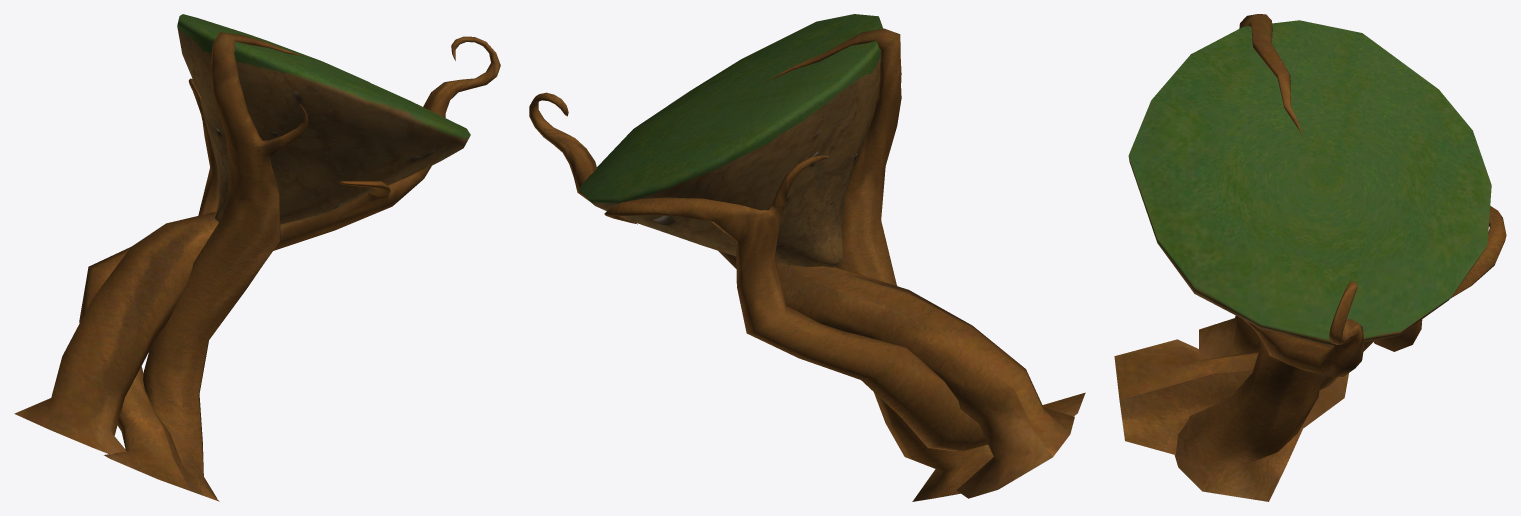
Rendered from RootPlatformShape8.dae.
3 renders of one model, left to right at view 1: azimuth 30°, elevation 25°; view 2: azimuth 150°, elevation 25°; view 3: azimuth 270°, elevation 25°, orthographic. The views are drawn at different scales.
Parts seen in each view (by area): view 1: RootPlatform8; view 2: RootPlatform8; view 3: RootPlatform8.
Boxes of the visible parts, x1,y1,x2,y2 form: RootPlatform8: [14, 14, 500, 501]; RootPlatform8: [529, 14, 1085, 501]; RootPlatform8: [1114, 14, 1506, 501].
Size of the model in its own units: 46.69 by 40.22 by 28.33.
